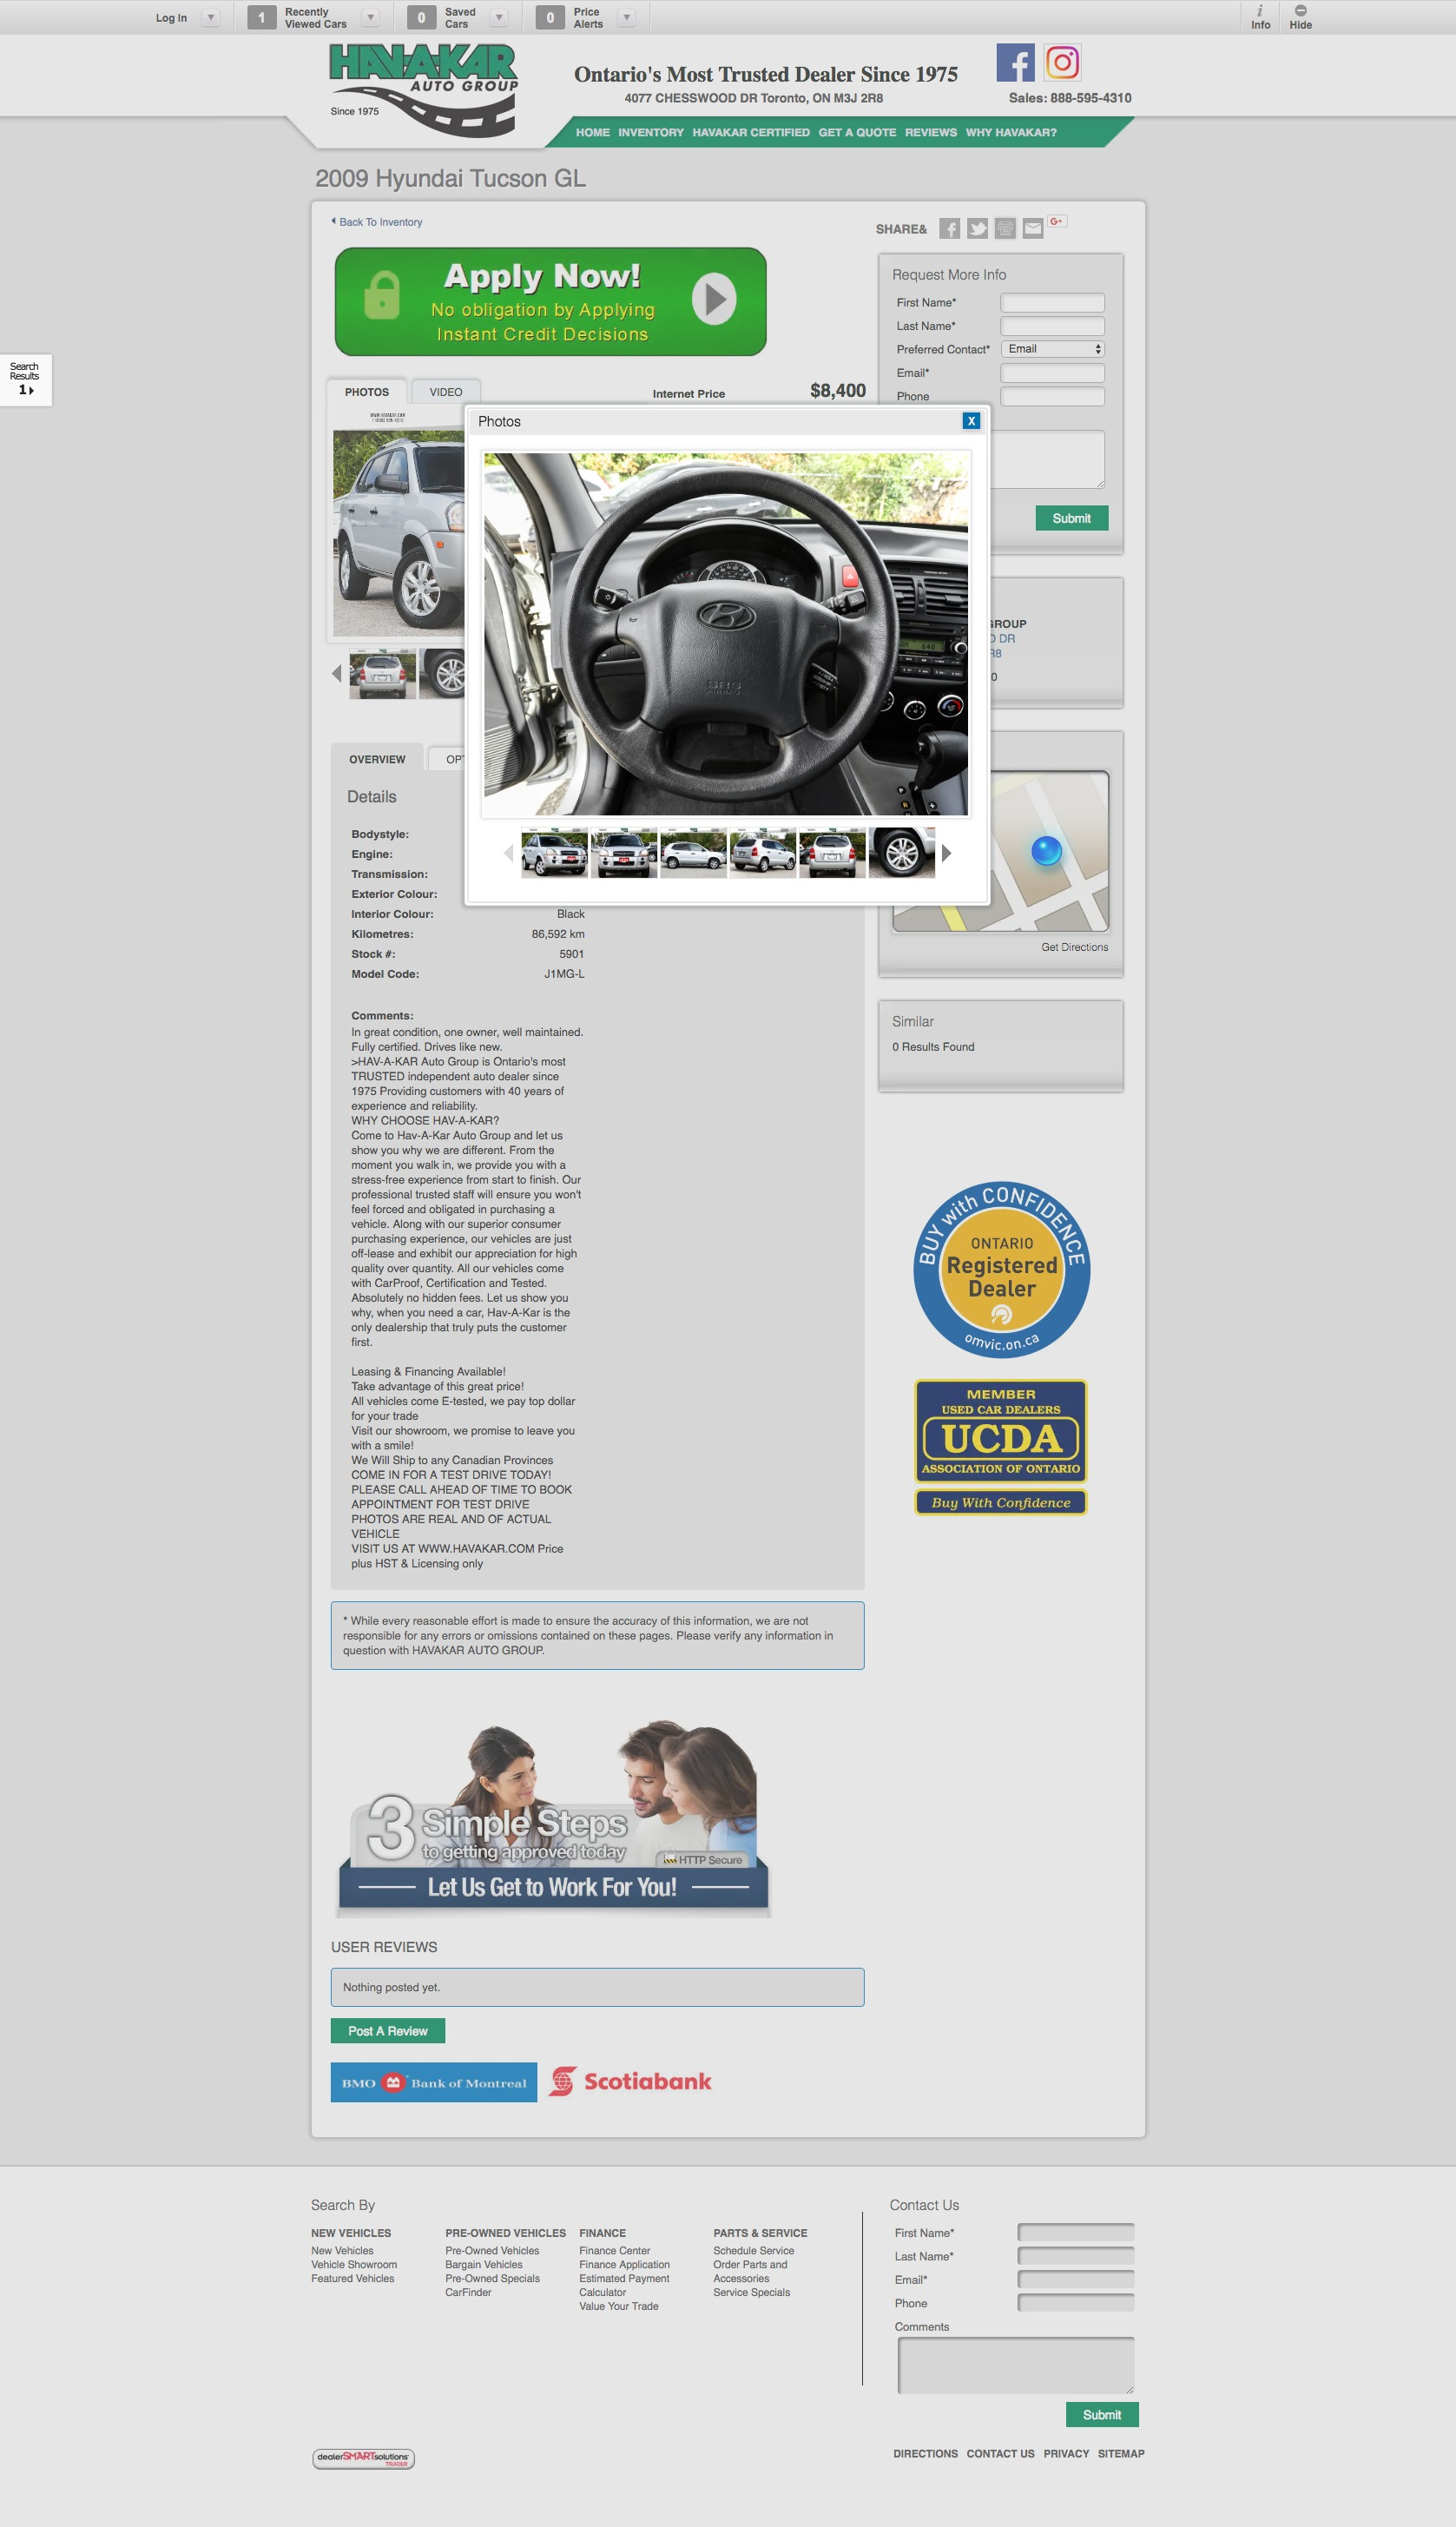car: (942, 843, 953, 863)
